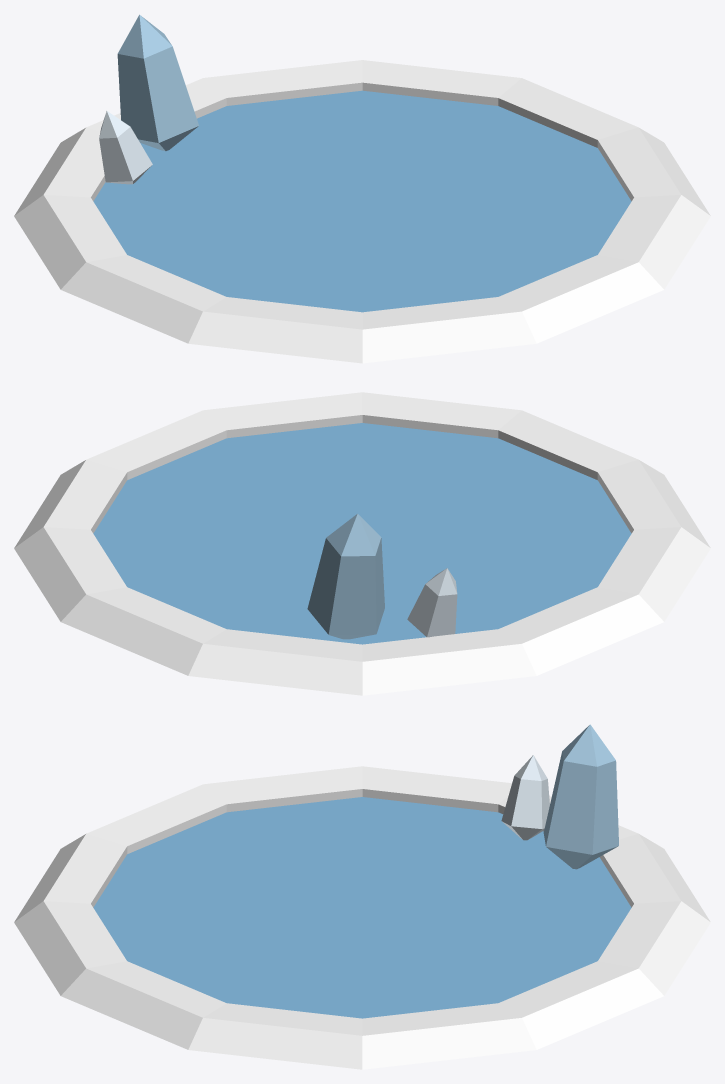
The model's file is frozen-lake-disc.glb.
The picture shows the model from 3 angles, top to bottom: view 1: azimuth 30°, elevation 25°; view 2: azimuth 150°, elevation 25°; view 3: azimuth 270°, elevation 25°; orthographic projection.
Parts seen in each view (by area): view 1: ice-frozen-lake-disc; view 2: ice-frozen-lake-disc; view 3: ice-frozen-lake-disc.
Part boxes in pixels (x1=…): ice-frozen-lake-disc: x1=14, y1=14, x2=710, y2=363; ice-frozen-lake-disc: x1=14, y1=392, x2=710, y2=695; ice-frozen-lake-disc: x1=14, y1=724, x2=710, y2=1069.
Bounding box in the file's own units: 2.36 × 0.5418 × 2.36.
